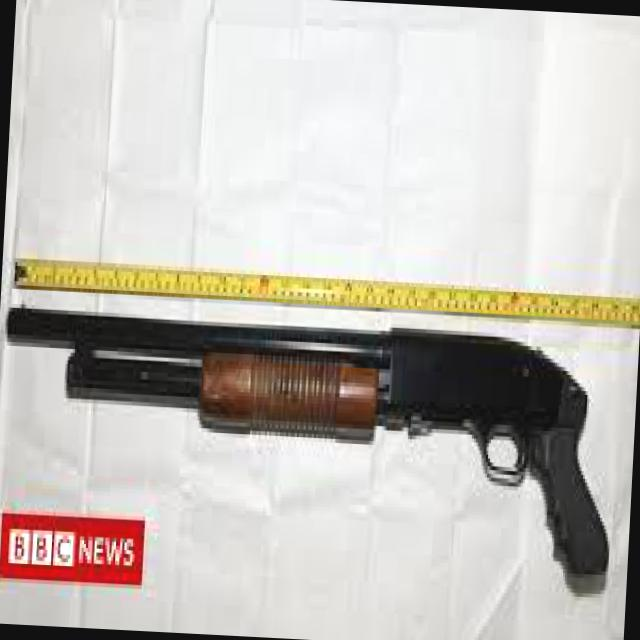long weapon: (0, 286, 617, 593)
